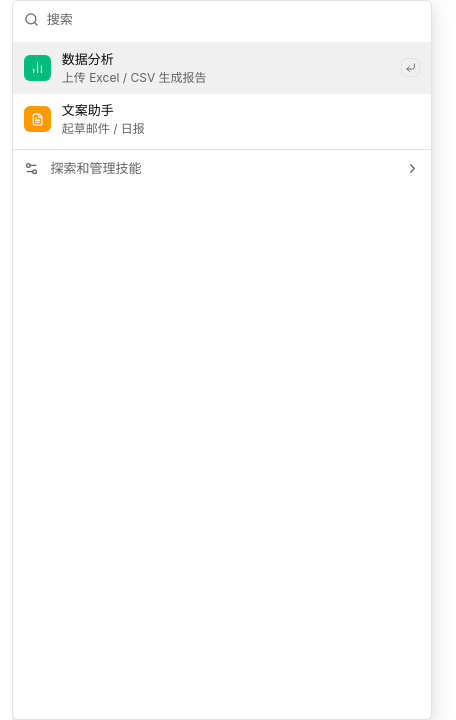
Test: SkillPopoverPanel › filters items by query
This screenshot has width=456, height=720.
Type "文案" into the field with test id "skill-popover-search" at (233, 20), box 47,10 -> 420,29
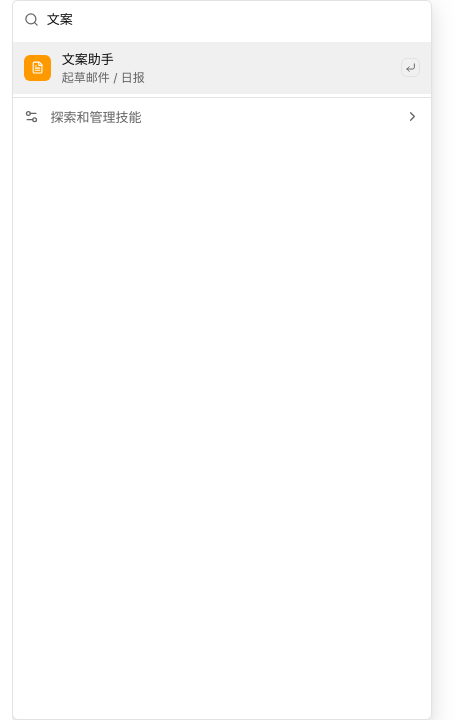
Expected: the text "文案助手" is shown, 62,51 -> 114,67
Expected: the option "数据分析" is gone
